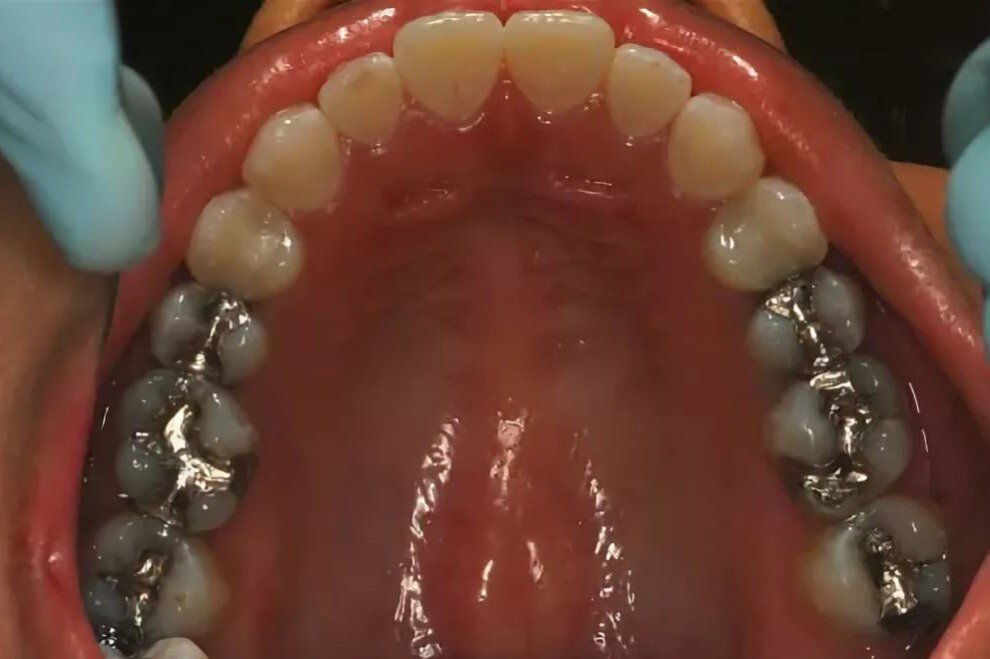UL1BC_healthy: (710, 180, 825, 268)
UL1M_decay: (769, 359, 909, 516)
UL2BC_decay: (747, 270, 864, 370)
UL2M_decay: (815, 498, 950, 633)
ULCI_healthy: (504, 10, 612, 109)
ULC_healthy: (669, 93, 762, 198)
ULLI_healthy: (611, 46, 692, 135)
UR1BC_healthy: (191, 194, 303, 289)
UR1M_decay: (118, 380, 255, 528)
UR2BC_decay: (153, 288, 266, 379)
UR2M_decay: (93, 518, 214, 638)
URCI_healthy: (393, 11, 504, 119)
URC_healthy: (242, 107, 340, 208)
URLI_healthy: (318, 51, 399, 142)
